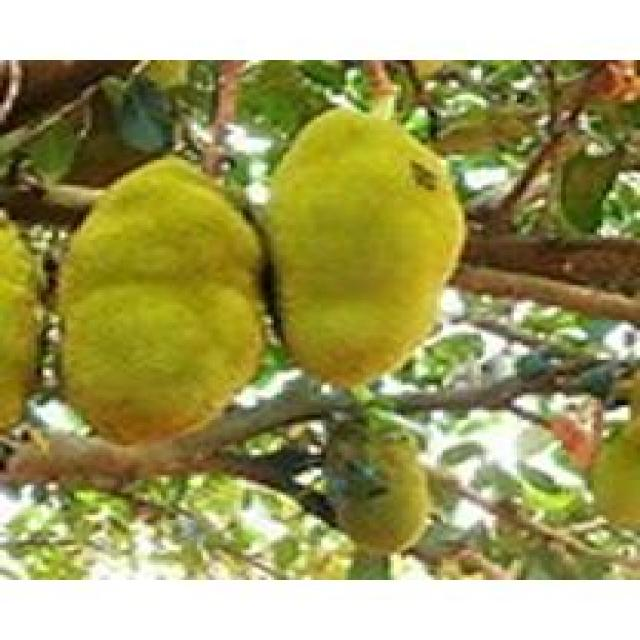Fruit: (18, 142, 298, 468), (231, 92, 483, 418)
